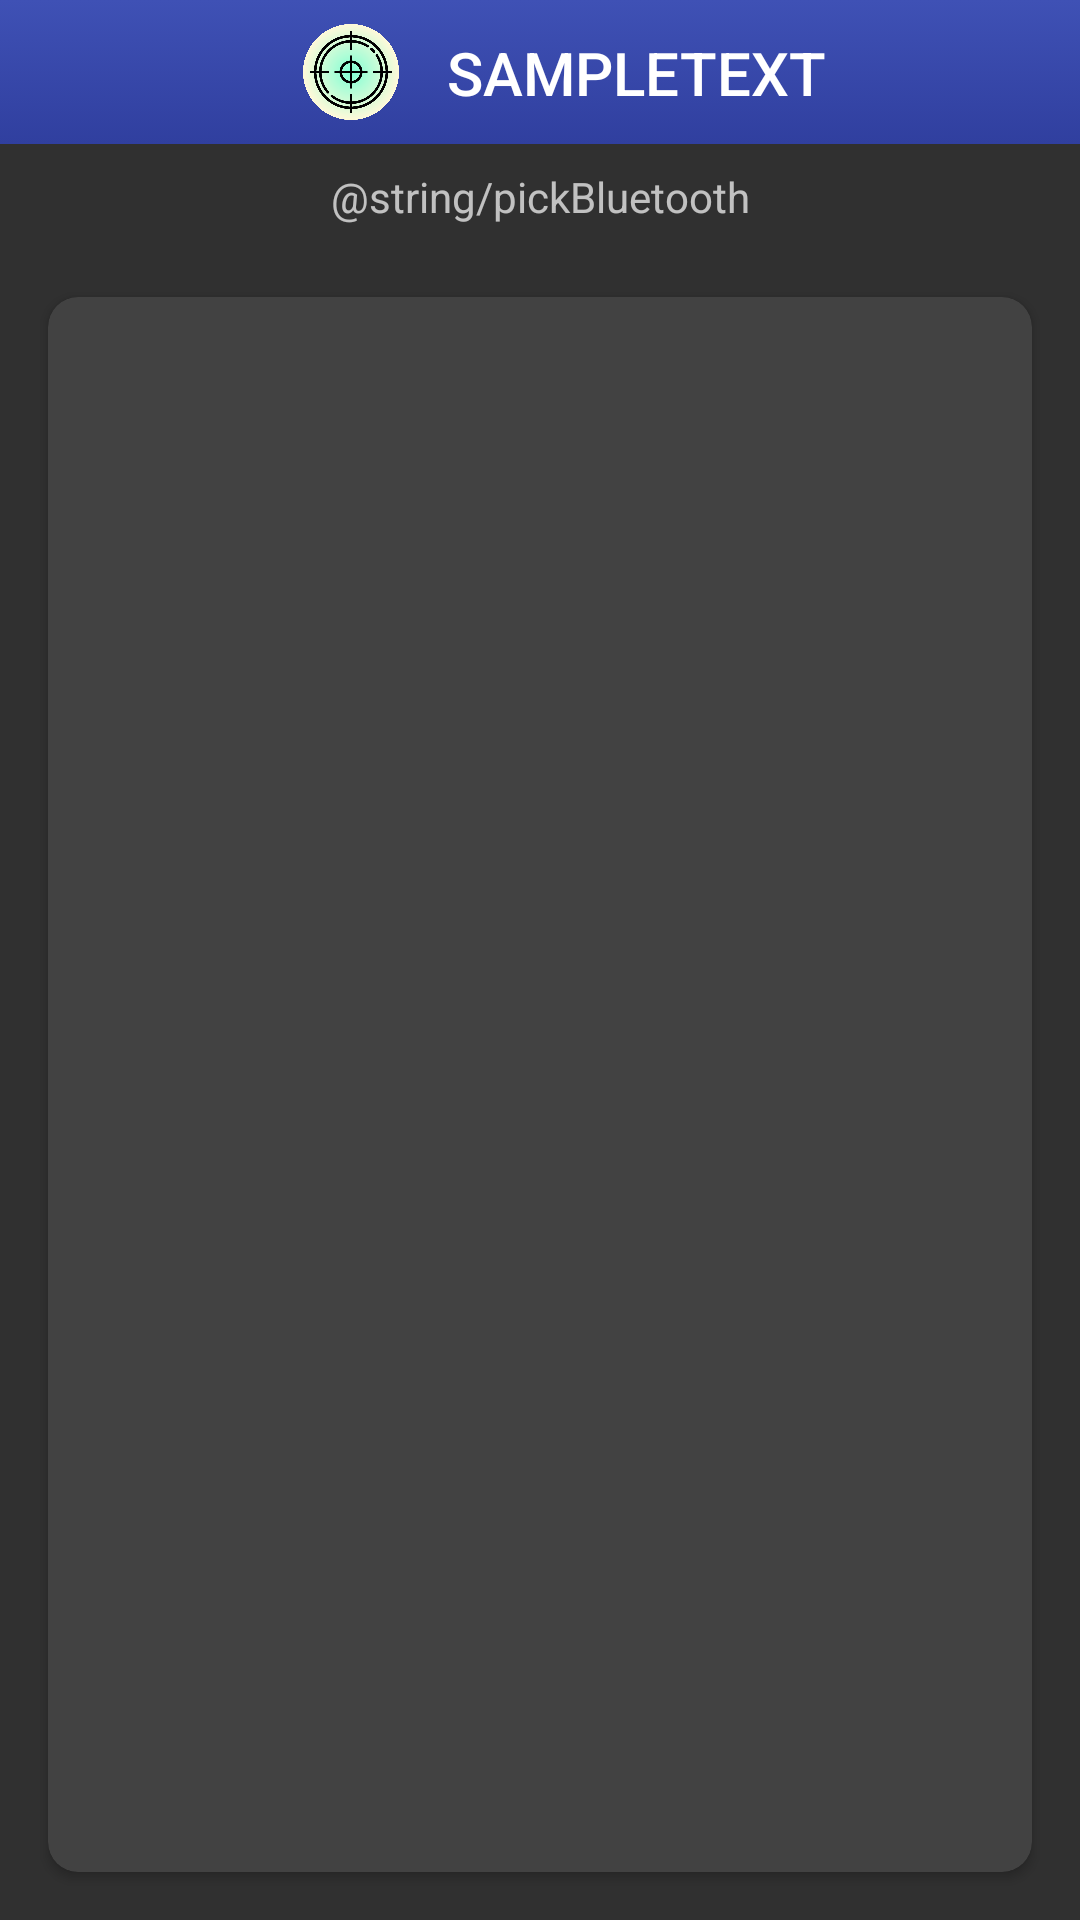

Icons on this 1080 x 1920 Android screen, each with the point to tap as point (x, y):
Sharp Eyes Icon: point (351, 72)
